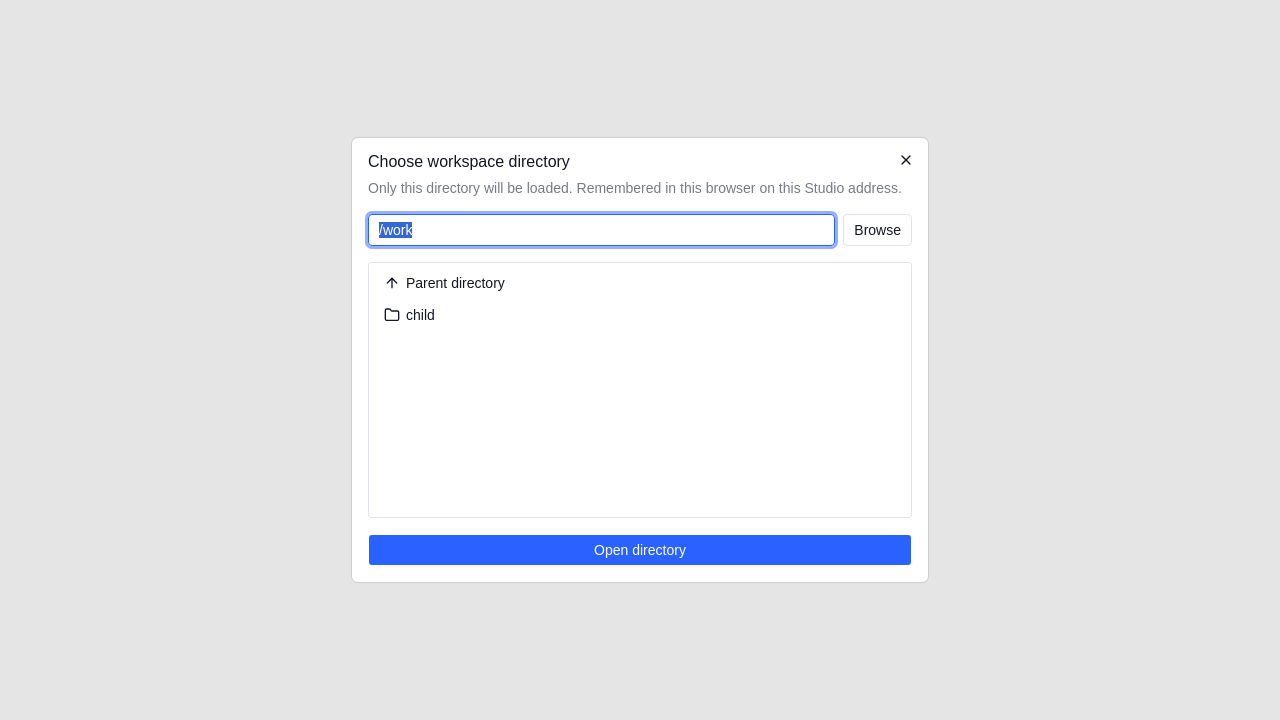
UI-W01: directory child and parent browsing change only the listing until Open is pressed
Click the button "child".
click(392, 315)  # box top-left (373, 299), bottom-right (907, 331)
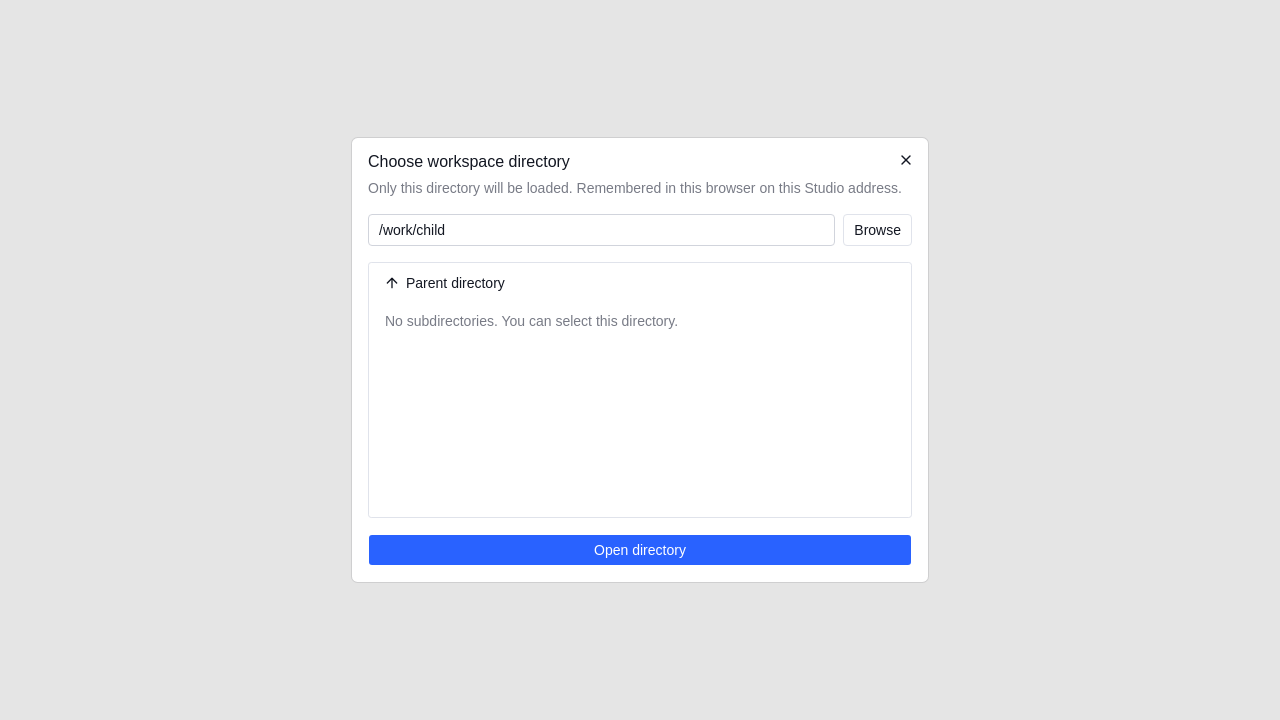
Expected: the field named "Workspace directory path" holds "/work/child", top-left (368, 214), bottom-right (835, 246)
Click the button "Parent directory".
click(455, 283)  # box top-left (373, 267), bottom-right (907, 299)
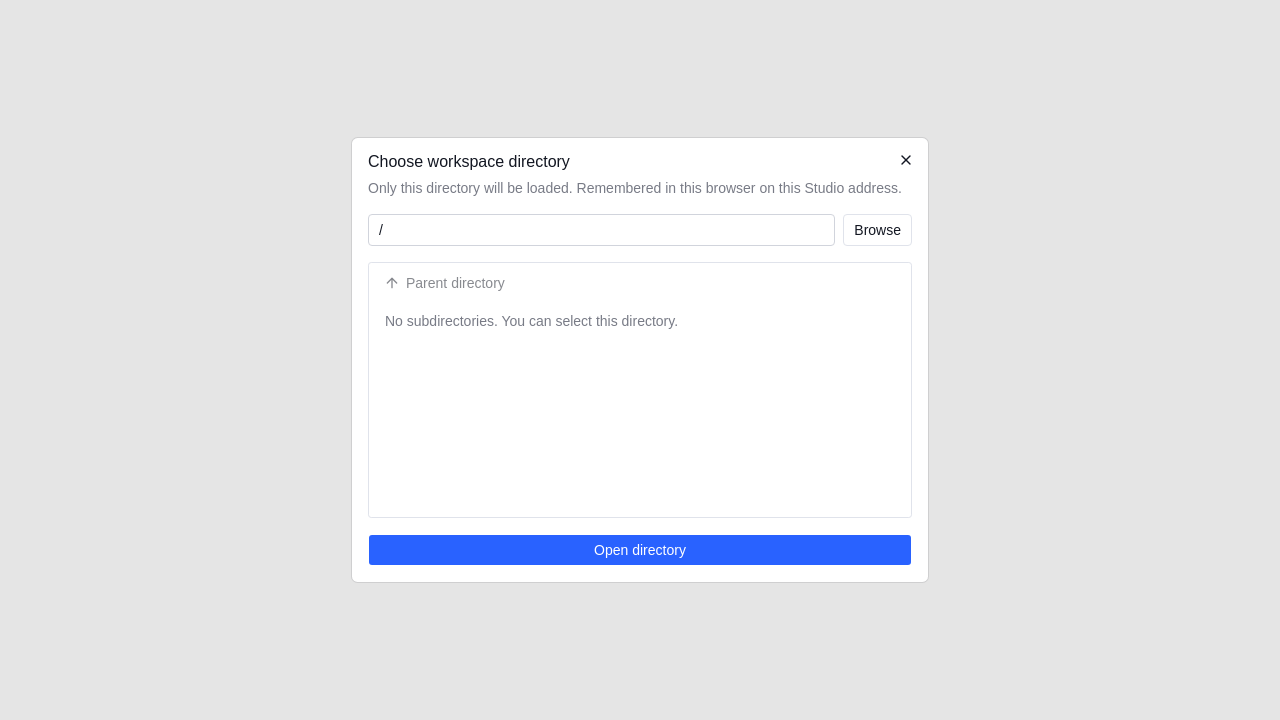
Expected: the field named "Workspace directory path" holds "/", top-left (368, 214), bottom-right (835, 246)
Expected: the button "Parent directory" is disabled, top-left (373, 267), bottom-right (907, 299)
